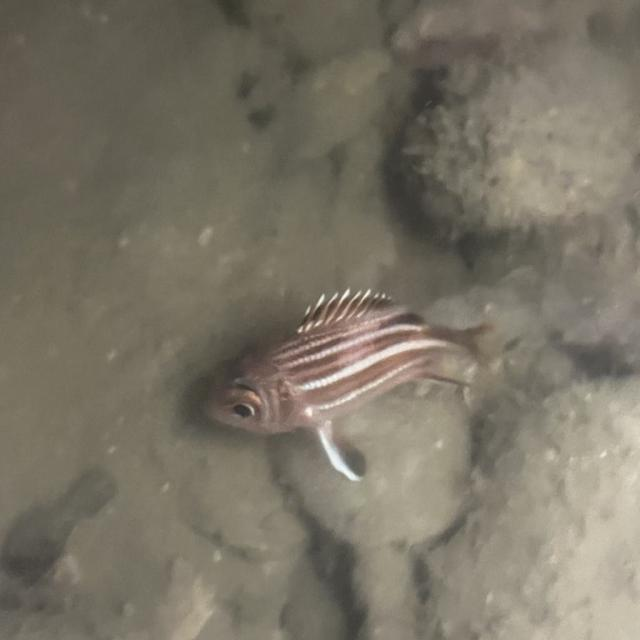Asker Baligi: (199, 284, 493, 484)
